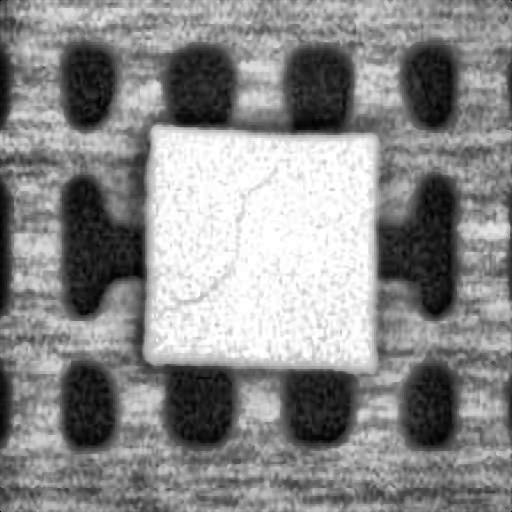DIE_CRACK: (184, 156, 273, 300)
